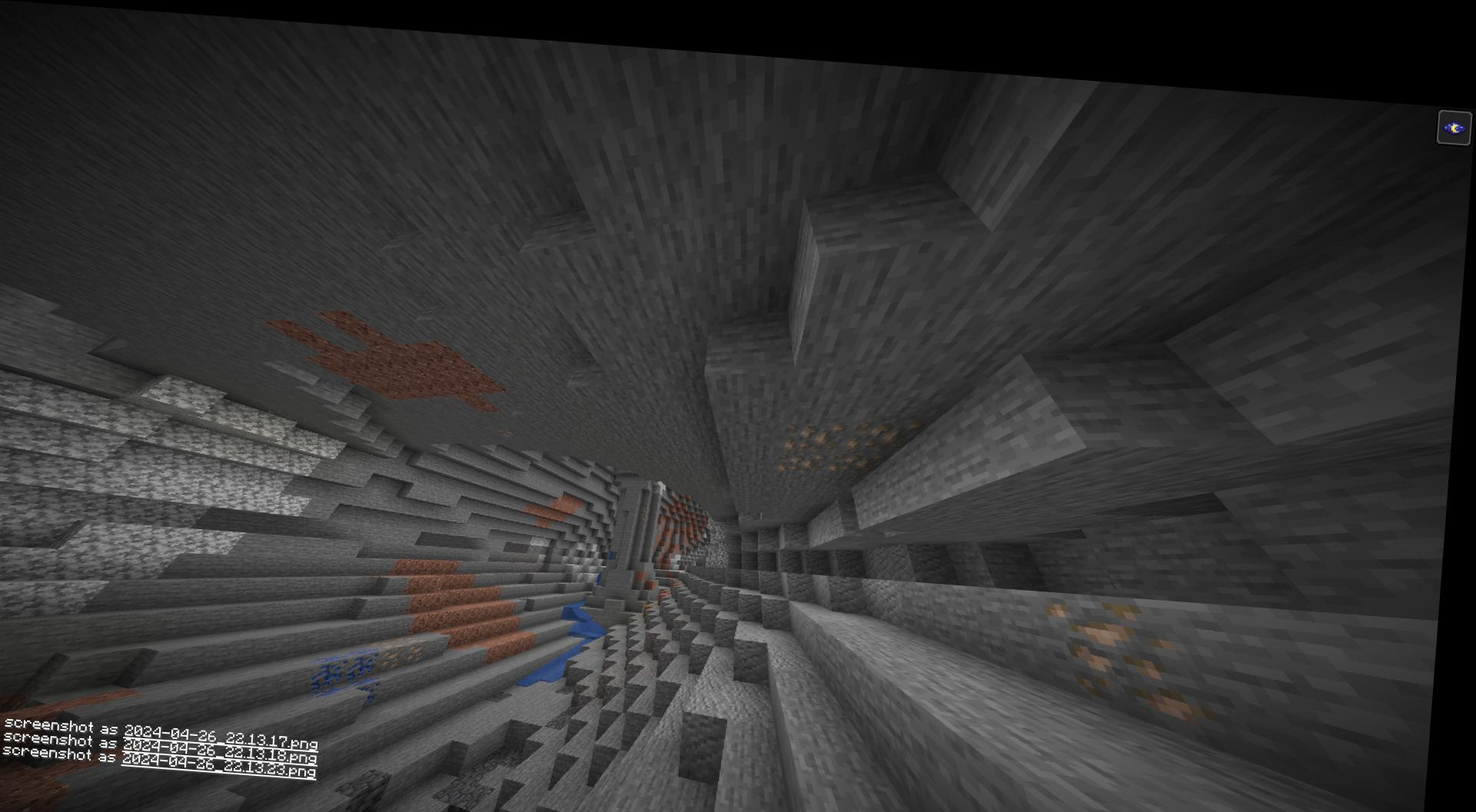iron ore: (1049, 575, 1191, 686), (792, 407, 900, 465), (382, 626, 437, 657), (499, 413, 526, 436)
